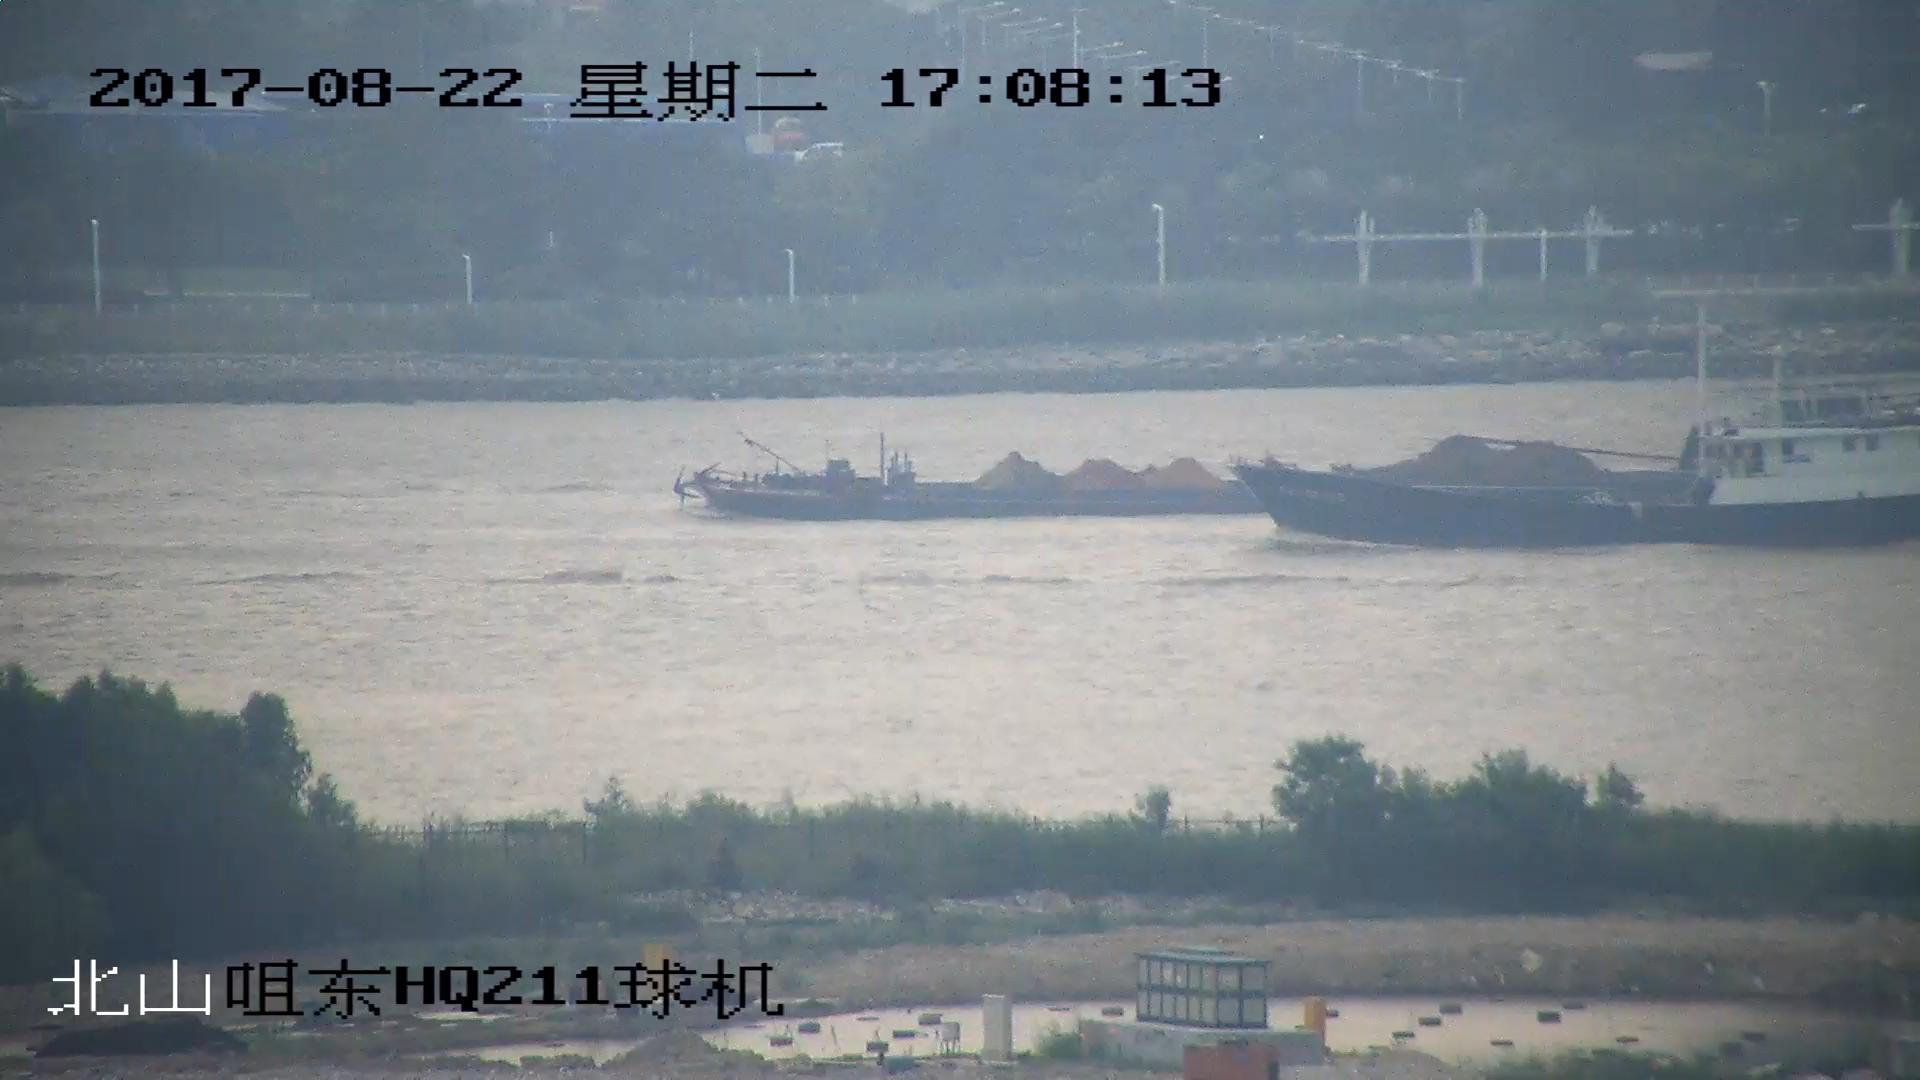fishing boat: (1242, 358, 1920, 551)
ore carrier: (670, 393, 1920, 513)
